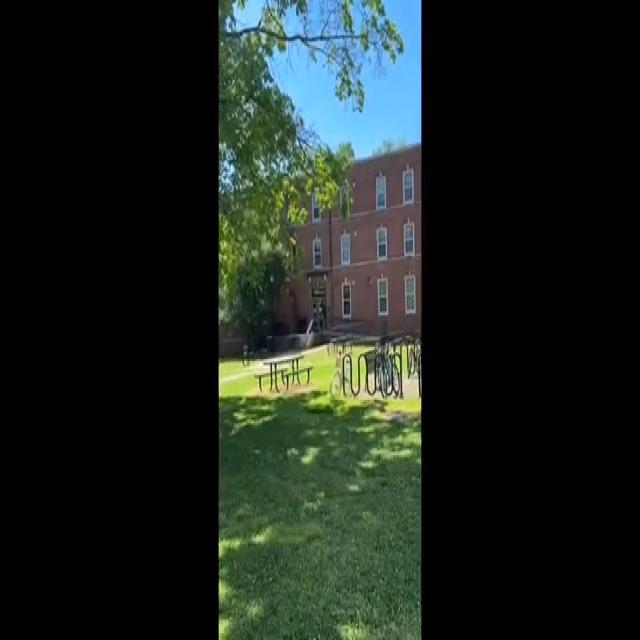drone: (283, 282, 303, 305)
